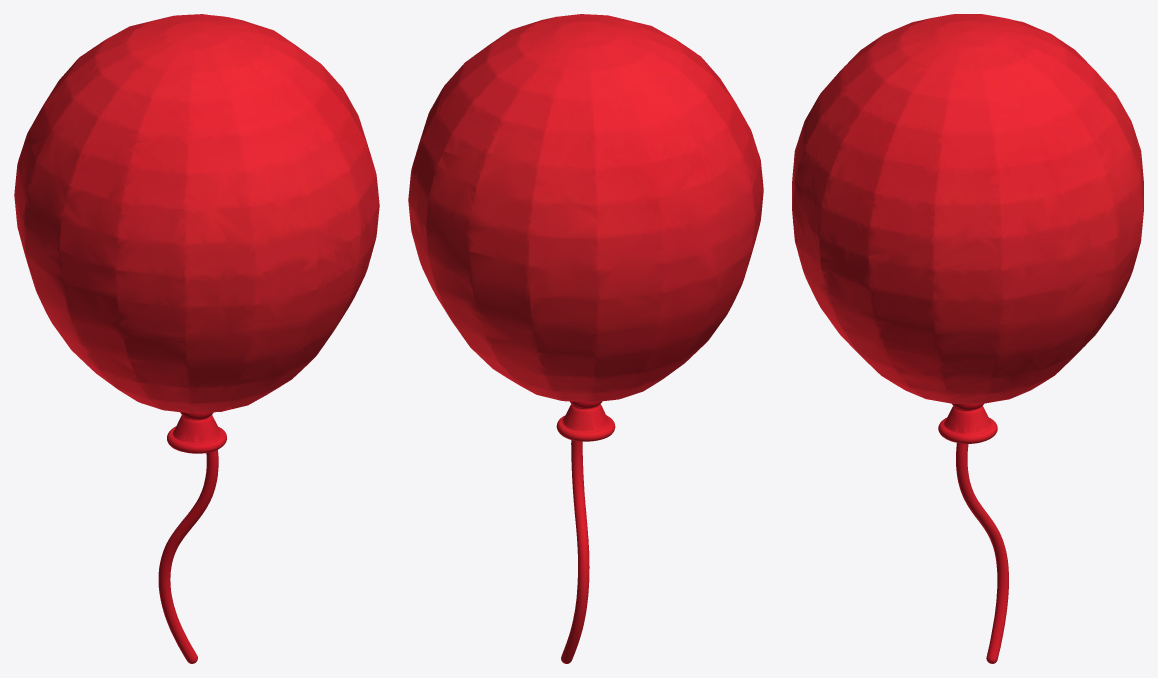
File: Palloncino.glb
The picture shows the model from 3 angles, left to right: view 1: azimuth 30°, elevation 25°; view 2: azimuth 150°, elevation 25°; view 3: azimuth 270°, elevation 25°; orthographic projection. The views are drawn at different scales.
Bounding box in the file's own units: 0.9643 × 1.9 × 0.9645.
Materials: 1 (1 with a texture image).
